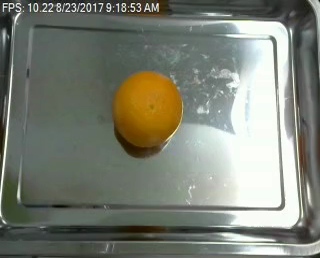Orange: (112, 70, 184, 149)
